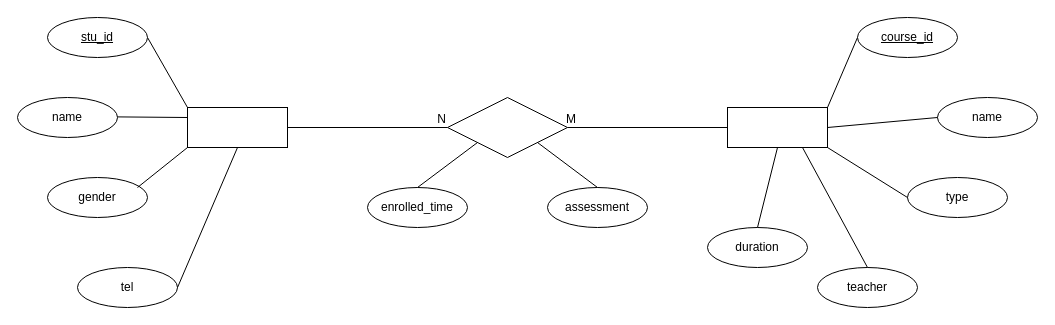
Image size: 1055x325. Some labels were removed from this diagram. Here are the shapes that lost their labels. From the top down, the centre of each, then its label:
At pixel 237 127: "Student".
At pixel 507 127: "Enrolled in".
At pixel 777 127: "Course".
